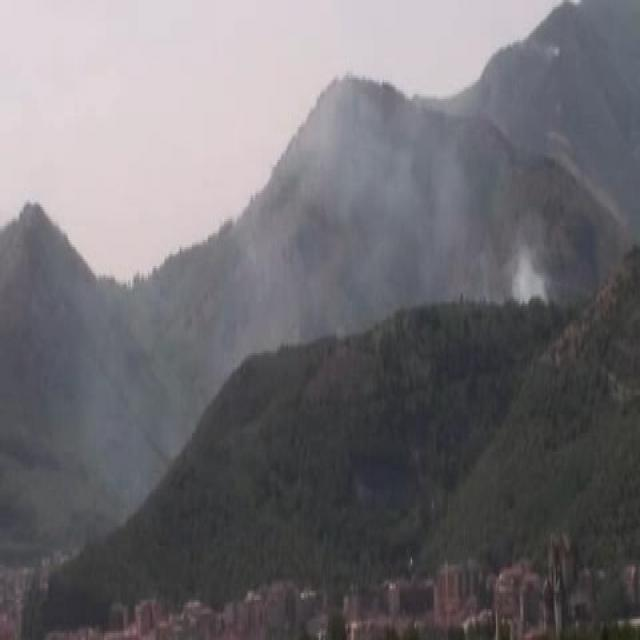smoke: (332, 136, 553, 296)
